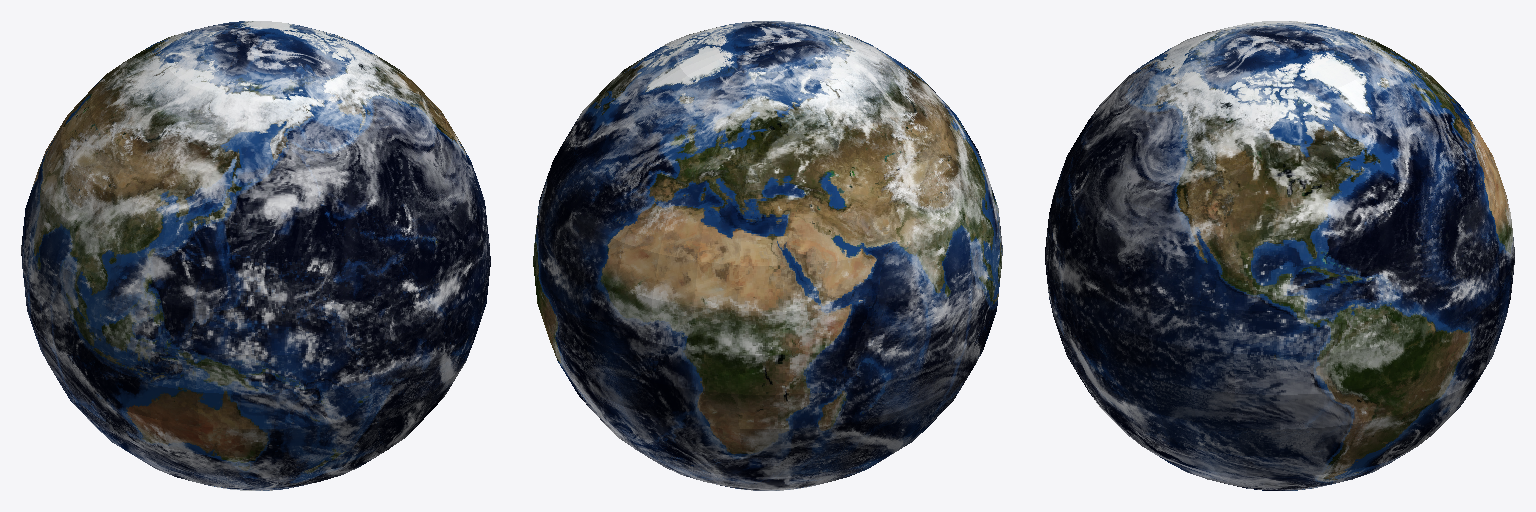
3 renders of one model, left to right at view 1: azimuth 30°, elevation 25°; view 2: azimuth 150°, elevation 25°; view 3: azimuth 270°, elevation 25°, orthographic.
Visible parts, largest first — view 1: Sphere; view 2: Sphere; view 3: Sphere.
Part boxes in pixels (left/top/right/bottom): Sphere: left=21, top=21, right=490, bottom=490; Sphere: left=533, top=21, right=1002, bottom=490; Sphere: left=1045, top=21, right=1514, bottom=490.
Size of the model in its own units: 2 by 2 by 2.
1 materials, 1 textured.